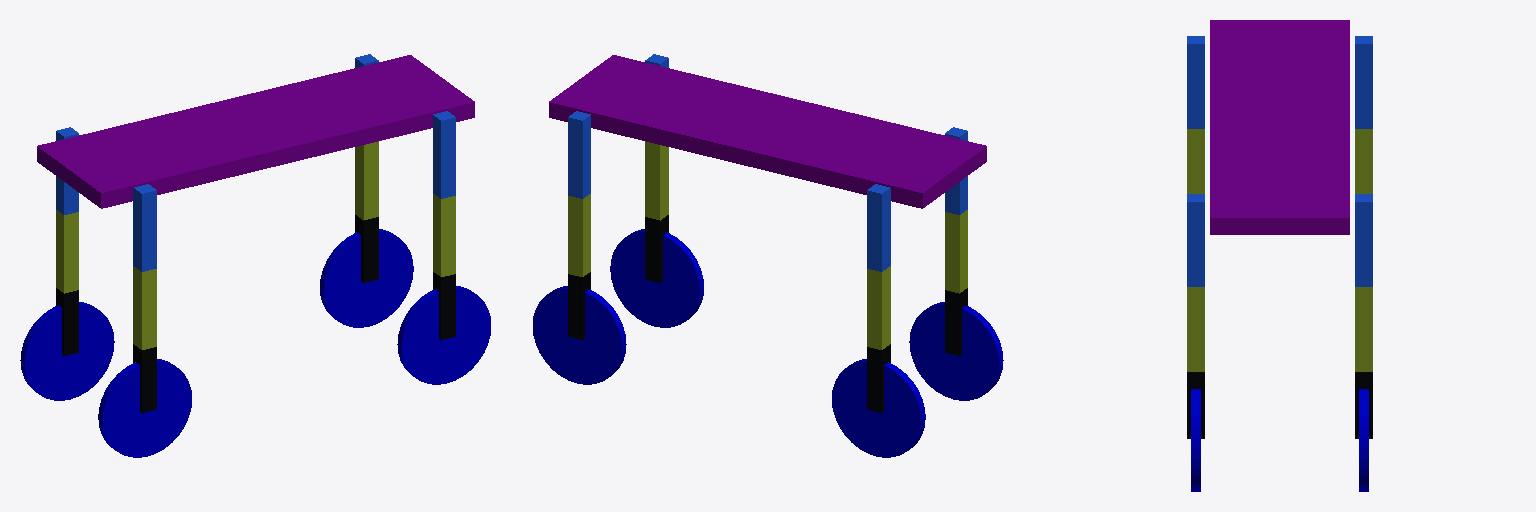
The robot description file, URDF, robot "robot":
<robot name="robot">
  <link name="base_footprint"></link>
  <joint name="base_joint" type="fixed">
    <parent link="base_footprint" />
    <child link="base_link" />
    <origin xyz="0 0 1.7" rpy="0 0 0" />
  </joint>

  <link name="base_link">
    <visual>
      <origin xyz="0 0 0" rpy="0 0 0" />
      <geometry>
        <box size="2.5 0.75 0.1" />
      </geometry>
      <material name="base_link-material">
        <color rgba="0.46207699964472876 0.026241221889696346 0.5711248294565854 1" />
      </material>
    </visual>
    <collision>
      <origin xyz="0 0 0" rpy="0 0 0" />
      <geometry>
        <box size="2.5 0.75 0.1" />
      </geometry>
    </collision>
    <inertial>
      <origin xyz="0 0 0" rpy="0 0 0" />
      <mass value="100" />
      <inertia ixx="10" ixy="0" ixz="0" iyy="10" iyz="0" izz="10" />
    </inertial>
  </link>

  <joint name="base_link_to_hipFL" type="fixed">
    <parent link="base_link" />
    <child link="hipFL" />
    <origin xyz="1 0.45 -0.2" rpy="0 0 0" />
  </joint>

  <link name="hipFL">
    <visual>
      <origin xyz="0 0 0" rpy="0 0 0" />
      <geometry>
        <box size="0.1 0.1 0.5" />
      </geometry>
      <material name="hipFL-material">
        <color rgba="0.12213877222015301 0.3515325994898463 0.8227857543924378 1" />
      </material>
    </visual>
    <collision>
      <origin xyz="0 0 0" rpy="0 0 0" />
      <geometry>
        <box size="0.1 0.1 0.5" />
      </geometry>
    </collision>
    <inertial>
      <origin xyz="0 0 0" rpy="0 0 0" />
      <mass value="1" />
      <inertia ixx="0.16666666666666666" ixy="0" ixz="0" iyy="0.16666666666666666" iyz="0" izz="0.16666666666666666" />
    </inertial>
  </link>

  <joint name="hipFL_to_legFL" type="prismatic">
    <parent link="hipFL" />
    <child link="legFL" />
    <origin xyz="0 0 -0.5" rpy="0 0 0" />
    <axis xyz="0 0 1"/>
    <limit lower="-1" upper="1"/>
  </joint>

  <link name="legFL">
    <visual>
      <origin xyz="0 0 0" rpy="0 0 0" />
      <geometry>
        <box size="0.1 0.1 0.5" />
      </geometry>
      <material name="legFL-material">
        <color rgba="0.5209955731953768 0.6104955708001716 0.16513219449147767 1" />
      </material>
    </visual>
    <collision>
      <origin xyz="0 0 0" rpy="0 0 0" />
      <geometry>
        <box size="0.1 0.1 0.5" />
      </geometry>
    </collision>
    <inertial>
      <origin xyz="0 0 0" rpy="0 0 0" />
      <mass value="1" />
      <inertia ixx="0.16666666666666666" ixy="0" ixz="0" iyy="0.16666666666666666" iyz="0" izz="0.16666666666666666" />
    </inertial>
  </link>

  <joint name="legFL_to_feetFL" type="revolute">
    <parent link="legFL" />
    <child link="feetFL" />
    <origin xyz="0 0 -0.45" rpy="0 0 0" />
    <axis xyz="0 0 1"/>
    <limit lower="-1" upper="1" />
  </joint>

  <link name="feetFL">
    <visual>
      <origin xyz="0 0 0" rpy="0 0 0" />
      <geometry>
        <box size="0.1 0.1 0.4" />
      </geometry>
      <material name="feetFL-material">
        <color rgba="0.04817182422013895 0.05286064701616471 0.06480326668529614 1" />
      </material>
    </visual>
    <inertial>
      <origin xyz="0 0 0" rpy="0 0 0" />
      <mass value="1" />
      <inertia ixx="0.16666666666666666" ixy="0" ixz="0" iyy="0.16666666666666666" iyz="0" izz="0.16666666666666666" />
    </inertial>
  </link>

  <joint name="feetFL_to_wheelFL" type="revolute">
    <parent link="feetFL" />
    <child link="wheelFL" />
    <origin xyz="0 0 -0.2" rpy="1.5707963267948963 0 0" />
    <axis xyz="0 0 1"/>
    <limit />
  </joint>

  <link name="wheelFL">
    <visual>
      <origin xyz="0 0 0" rpy="0 0 0" />
      <geometry>
        <cylinder radius="0.3" length="0.05" />
      </geometry>
      <material name="wheelFL-material">
        <color rgba="0.004024717016506897 0.012286488353353374 0.8069522576650873 1" />
      </material>
    </visual>
    <collision>
      <origin xyz="0 0 0" rpy="0 0 0" />
      <geometry>
        <cylinder radius="0.3" length="0.05" />
      </geometry>
    </collision>
    <inertial>
      <origin xyz="0 0 0" rpy="0 0 0" />
      <mass value="1" />
      <inertia ixx="0.3333333333333333" ixy="0" ixz="0" iyy="0.5" iyz="0" izz="0.3333333333333333" />
    </inertial>
  </link>

  <joint name="base_link_to_hipFR" type="fixed">
    <parent link="base_link" />
    <child link="hipFR" />
    <origin xyz="1 -0.45 -0.2" rpy="0 0 0" />
  </joint>

  <link name="hipFR">
    <visual>
      <origin xyz="0 0 0" rpy="0 0 0" />
      <geometry>
        <box size="0.1 0.1 0.5" />
      </geometry>
      <material name="hipFR-material">
        <color rgba="0.12213877222015301 0.3515325994898463 0.8227857543924378 1" />
      </material>
    </visual>
    <collision>
      <origin xyz="0 0 0" rpy="0 0 0" />
      <geometry>
        <box size="0.1 0.1 0.5" />
      </geometry>
    </collision>
    <inertial>
      <origin xyz="0 0 0" rpy="0 0 0" />
      <mass value="1" />
      <inertia ixx="0.16666666666666666" ixy="0" ixz="0" iyy="0.16666666666666666" iyz="0" izz="0.16666666666666666" />
    </inertial>
  </link>

  <joint name="hipFR_to_legFR" type="prismatic">
    <parent link="hipFR" />
    <child link="legFR" />
    <origin xyz="0 0 -0.5" rpy="0 0 0" />
    <axis xyz="0 0 1"/>
    <limit lower="-1" upper="1"/>
  </joint>

  <link name="legFR">
    <visual>
      <origin xyz="0 0 0" rpy="0 0 0" />
      <geometry>
        <box size="0.1 0.1 0.5" />
      </geometry>
      <material name="legFR-material">
        <color rgba="0.5209955731953768 0.6104955708001716 0.16513219449147767 1" />
      </material>
    </visual>
    <collision>
      <origin xyz="0 0 0" rpy="0 0 0" />
      <geometry>
        <box size="0.1 0.1 0.5" />
      </geometry>
    </collision>
    <inertial>
      <origin xyz="0 0 0" rpy="0 0 0" />
      <mass value="1" />
      <inertia ixx="0.16666666666666666" ixy="0" ixz="0" iyy="0.16666666666666666" iyz="0" izz="0.16666666666666666" />
    </inertial>
  </link>

  <joint name="legFR_to_feetFR" type="revolute">
    <parent link="legFR" />
    <child link="feetFR" />
    <origin xyz="0 0 -0.45" rpy="0 0 0" />
    <axis xyz="0 0 1"/>
    <limit lower="-1" upper="1"/>
  </joint>

  <link name="feetFR">
    <visual>
      <origin xyz="0 0 0" rpy="0 0 0" />
      <geometry>
        <box size="0.1 0.1 0.4" />
      </geometry>
      <material name="feetFR-material">
        <color rgba="0.04817182422013895 0.05286064701616471 0.06480326668529614 1" />
      </material>
    </visual>
    <inertial>
      <origin xyz="0 0 0" rpy="0 0 0" />
      <mass value="1" />
      <inertia ixx="0.16666666666666666" ixy="0" ixz="0" iyy="0.16666666666666666" iyz="0" izz="0.16666666666666666" />
    </inertial>
  </link>

  <joint name="feetFR_to_wheelFR" type="revolute">
    <parent link="feetFR" />
    <child link="wheelFR" />
    <origin xyz="0 0 -0.2" rpy="1.5707963267948963 0 0" />
    <axis xyz="0 0 1"/>
    <limit />
  </joint>

  <link name="wheelFR">
    <visual>
      <origin xyz="0 0 0" rpy="0 0 0" />
      <geometry>
        <cylinder radius="0.3" length="0.05" />
      </geometry>
      <material name="wheelFR-material">
        <color rgba="0.004024717016506897 0.012286488353353374 0.8069522576650873 1" />
      </material>
    </visual>
    <collision>
      <origin xyz="0 0 0" rpy="0 0 0" />
      <geometry>
        <cylinder radius="0.3" length="0.05" />
      </geometry>
    </collision>
    <inertial>
      <origin xyz="0 0 0" rpy="0 0 0" />
      <mass value="1" />
      <inertia ixx="0.3333333333333333" ixy="0" ixz="0" iyy="0.5" iyz="0" izz="0.3333333333333333" />
    </inertial>
  </link>

  <joint name="base_link_to_hipBL" type="fixed">
    <parent link="base_link" />
    <child link="hipBL" />
    <origin xyz="-1 0.45 -0.2" rpy="0 0 0" />
  </joint>

  <link name="hipBL">
    <visual>
      <origin xyz="0 0 0" rpy="0 0 0" />
      <geometry>
        <box size="0.1 0.1 0.5" />
      </geometry>
      <material name="hipBL-material">
        <color rgba="0.12213877222015301 0.3515325994898463 0.8227857543924378 1" />
      </material>
    </visual>
    <collision>
      <origin xyz="0 0 0" rpy="0 0 0" />
      <geometry>
        <box size="0.1 0.1 0.5" />
      </geometry>
    </collision>
    <inertial>
      <origin xyz="0 0 0" rpy="0 0 0" />
      <mass value="1" />
      <inertia ixx="0.16666666666666666" ixy="0" ixz="0" iyy="0.16666666666666666" iyz="0" izz="0.16666666666666666" />
    </inertial>
  </link>

  <joint name="hipBL_to_legBL" type="prismatic">
    <parent link="hipBL" />
    <child link="legBL" />
    <origin xyz="0 0 -0.5" rpy="0 0 0" />
    <axis xyz="0 0 1"/>
    <limit lower="-1" upper="1"/>
  </joint>

  <link name="legBL">
    <visual>
      <origin xyz="0 0 0" rpy="0 0 0" />
      <geometry>
        <box size="0.1 0.1 0.5" />
      </geometry>
      <material name="legBL-material">
        <color rgba="0.5209955731953768 0.6104955708001716 0.16513219449147767 1" />
      </material>
    </visual>
    <collision>
      <origin xyz="0 0 0" rpy="0 0 0" />
      <geometry>
        <box size="0.1 0.1 0.5" />
      </geometry>
    </collision>
    <inertial>
      <origin xyz="0 0 0" rpy="0 0 0" />
      <mass value="1" />
      <inertia ixx="0.16666666666666666" ixy="0" ixz="0" iyy="0.16666666666666666" iyz="0" izz="0.16666666666666666" />
    </inertial>
  </link>

  <joint name="legBL_to_feetBL" type="revolute">
    <parent link="legBL" />
    <child link="feetBL" />
    <origin xyz="0 0 -0.45" rpy="0 0 0" />
    <axis xyz="0 0 1"/>
    <limit lower="-1" upper="1"/>
  </joint>

  <link name="feetBL">
    <visual>
      <origin xyz="0 0 0" rpy="0 0 0" />
      <geometry>
        <box size="0.1 0.1 0.4" />
      </geometry>
      <material name="feetBL-material">
        <color rgba="0.04817182422013895 0.05286064701616471 0.06480326668529614 1" />
      </material>
    </visual>
    <inertial>
      <origin xyz="0 0 0" rpy="0 0 0" />
      <mass value="1" />
      <inertia ixx="0.16666666666666666" ixy="0" ixz="0" iyy="0.16666666666666666" iyz="0" izz="0.16666666666666666" />
    </inertial>
  </link>

  <joint name="feetBL_to_wheelBL" type="revolute">
    <parent link="feetBL" />
    <child link="wheelBL" />
    <origin xyz="0 0 -0.2" rpy="1.5707963267948963 0 0" />
    <axis xyz="0 0 1"/>
    <limit />
  </joint>

  <link name="wheelBL">
    <visual>
      <origin xyz="0 0 0" rpy="0 0 0" />
      <geometry>
        <cylinder radius="0.3" length="0.05" />
      </geometry>
      <material name="wheelBL-material">
        <color rgba="0.004024717016506897 0.012286488353353374 0.8069522576650873 1" />
      </material>
    </visual>
    <collision>
      <origin xyz="0 0 0" rpy="0 0 0" />
      <geometry>
        <cylinder radius="0.3" length="0.05" />
      </geometry>
    </collision>
    <inertial>
      <origin xyz="0 0 0" rpy="0 0 0" />
      <mass value="1" />
      <inertia ixx="0.3333333333333333" ixy="0" ixz="0" iyy="0.5" iyz="0" izz="0.3333333333333333" />
    </inertial>
  </link>

  <joint name="base_link_to_hipBR" type="fixed">
    <parent link="base_link" />
    <child link="hipBR" />
    <origin xyz="-1 -0.45 -0.2" rpy="0 0 0" />
  </joint>

  <link name="hipBR">
    <visual>
      <origin xyz="0 0 0" rpy="0 0 0" />
      <geometry>
        <box size="0.1 0.1 0.5" />
      </geometry>
      <material name="hipBR-material">
        <color rgba="0.12213877222015301 0.3515325994898463 0.8227857543924378 1" />
      </material>
    </visual>
    <collision>
      <origin xyz="0 0 0" rpy="0 0 0" />
      <geometry>
        <box size="0.1 0.1 0.5" />
      </geometry>
    </collision>
    <inertial>
      <origin xyz="0 0 0" rpy="0 0 0" />
      <mass value="1" />
      <inertia ixx="0.16666666666666666" ixy="0" ixz="0" iyy="0.16666666666666666" iyz="0" izz="0.16666666666666666" />
    </inertial>
  </link>

  <joint name="hipBR_to_legBR" type="prismatic">
    <parent link="hipBR" />
    <child link="legBR" />
    <origin xyz="0 0 -0.5" rpy="0 0 0" />
    <axis xyz="0 0 1"/>
    <limit lower="-1" upper="1" />
  </joint>

  <link name="legBR">
    <visual>
      <origin xyz="0 0 0" rpy="0 0 0" />
      <geometry>
        <box size="0.1 0.1 0.5" />
      </geometry>
      <material name="legBR-material">
        <color rgba="0.5209955731953768 0.6104955708001716 0.16513219449147767 1" />
      </material>
    </visual>
    <collision>
      <origin xyz="0 0 0" rpy="0 0 0" />
      <geometry>
        <box size="0.1 0.1 0.5" />
      </geometry>
    </collision>
    <inertial>
      <origin xyz="0 0 0" rpy="0 0 0" />
      <mass value="1" />
      <inertia ixx="0.16666666666666666" ixy="0" ixz="0" iyy="0.16666666666666666" iyz="0" izz="0.16666666666666666" />
    </inertial>
  </link>

  <joint name="legBR_to_feetBR" type="revolute">
    <parent link="legBR" />
    <child link="feetBR" />
    <origin xyz="0 0 -0.45" rpy="0 0 0" />
    <axis xyz="0 0 1"/>
    <limit lower="-1" upper="1" />
  </joint>

  <link name="feetBR">
    <visual>
      <origin xyz="0 0 0" rpy="0 0 0" />
      <geometry>
        <box size="0.1 0.1 0.4" />
      </geometry>
      <material name="feetBR-material">
        <color rgba="0.04817182422013895 0.05286064701616471 0.06480326668529614 1" />
      </material>
    </visual>
    <inertial>
      <origin xyz="0 0 0" rpy="0 0 0" />
      <mass value="1" />
      <inertia ixx="0.16666666666666666" ixy="0" ixz="0" iyy="0.16666666666666666" iyz="0" izz="0.16666666666666666" />
    </inertial>
  </link>

  <joint name="feetBR_to_wheelBR" type="revolute">
    <parent link="feetBR" />
    <child link="wheelBR" />
    <origin xyz="0 0 -0.2" rpy="1.5707963267948963 0 0" />
    <axis xyz="0 0 1"/>
    <limit />
  </joint>

  <link name="wheelBR">
    <visual>
      <origin xyz="0 0 0" rpy="0 0 0" />
      <geometry>
        <cylinder radius="0.3" length="0.05" />
      </geometry>
      <material name="wheelBR-material">
        <color rgba="0.004024717016506897 0.012286488353353374 0.8069522576650873 1" />
      </material>
    </visual>
    <collision>
      <origin xyz="0 0 0" rpy="0 0 0" />
      <geometry>
        <cylinder radius="0.3" length="0.05" />
      </geometry>
    </collision>
    <inertial>
      <origin xyz="0 0 0" rpy="0 0 0" />
      <mass value="1" />
      <inertia ixx="0.3333333333333333" ixy="0" ixz="0" iyy="0.5" iyz="0" izz="0.3333333333333333" />
    </inertial>
  </link>
</robot>

--- Render facts (derived) ---
3 views of the same robot in one strip: view 1: azimuth 30°, elevation 25°; view 2: azimuth 150°, elevation 25°; view 3: azimuth 270°, elevation 25° (orthographic).
Robot: robot — 18 links, 17 joints (8 revolute, 4 prismatic, 5 fixed); root link base_footprint; default pose: all joints at 0.
Visible links, largest first — view 1: base_link, wheelBL, wheelBR, wheelFR, wheelFL, hipBR, hipFR, legBR, legFR, legBL, legFL, feetFL (+4 smaller); view 2: base_link, wheelBR, wheelBL, wheelFL, wheelFR, hipBL, hipFL, legBL, legFL, legBR, legFR, feetFR (+4 smaller); view 3: base_link, hipFL, hipFR, hipBL, hipBR, legFL, legFR, legBL, legBR, wheelFL, wheelFR, feetFL (+1 smaller).
Boxes of the visible links, box(x1,y1,x2,y2) form: base_link: box(37, 55, 474, 208); wheelBL: box(20, 302, 114, 400); wheelBR: box(98, 359, 191, 457); wheelFR: box(397, 286, 490, 384); wheelFL: box(320, 229, 413, 327); hipBR: box(133, 184, 156, 271); hipFR: box(433, 111, 455, 198); legBR: box(133, 266, 156, 349); legFR: box(433, 194, 455, 276); legBL: box(56, 210, 78, 293); legFL: box(355, 141, 378, 220); feetFL: box(355, 215, 378, 282); base_link: box(549, 55, 986, 208); wheelBR: box(909, 302, 1003, 400); wheelBL: box(832, 359, 925, 457); wheelFL: box(533, 286, 626, 384); wheelFR: box(610, 229, 703, 327); hipBL: box(867, 184, 890, 271); hipFL: box(568, 111, 590, 198); legBL: box(867, 266, 890, 349); legFL: box(568, 194, 590, 276); legBR: box(945, 210, 967, 293); legFR: box(645, 141, 668, 220); feetFR: box(645, 215, 668, 282); base_link: box(1210, 20, 1349, 234); hipFL: box(1355, 194, 1372, 286); hipFR: box(1187, 194, 1204, 286); hipBL: box(1355, 36, 1372, 128); hipBR: box(1187, 36, 1204, 128); legFL: box(1355, 287, 1372, 371); legFR: box(1187, 287, 1204, 371); legBL: box(1355, 129, 1372, 193); legBR: box(1187, 129, 1204, 193); wheelFL: box(1359, 389, 1368, 491); wheelFR: box(1191, 389, 1200, 491); feetFL: box(1355, 372, 1372, 438).
Size in the robot's own frame: 2.6 by 1 by 1.7 metres.
Geometry: primitives only (box / cylinder / sphere), no mesh files.